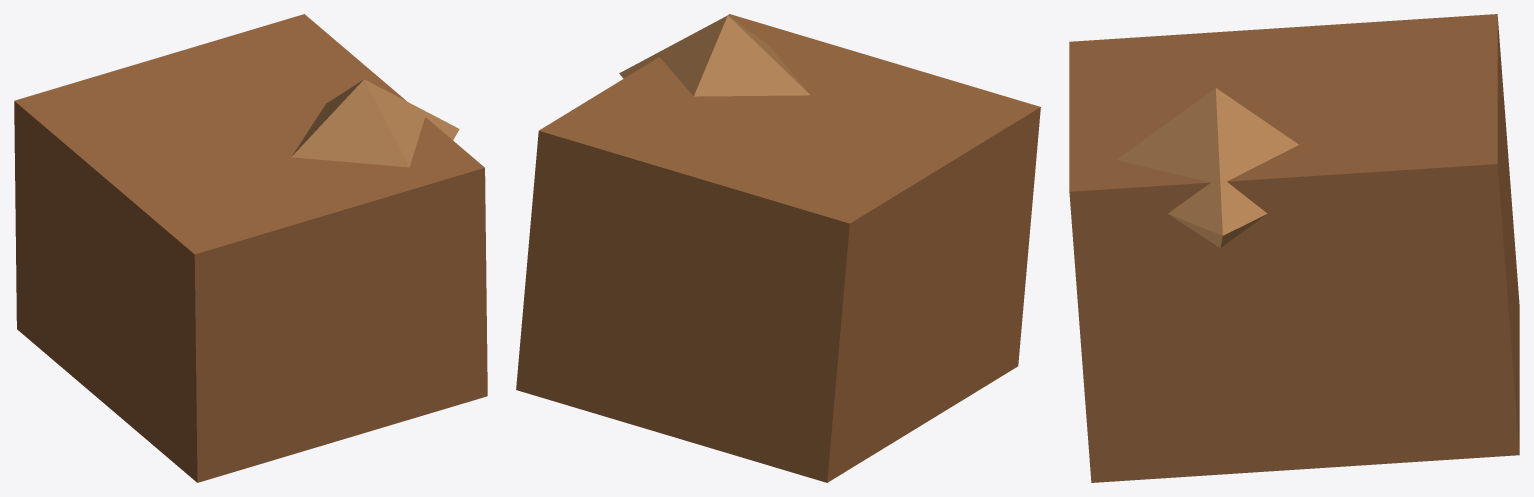
The model's file is pile-soil-1.gltf.
The picture shows the model from 3 angles, left to right: view 1: azimuth 30°, elevation 25°; view 2: azimuth 150°, elevation 25°; view 3: azimuth 270°, elevation 25°; orthographic projection. The views are drawn at different scales.
Parts seen in each view (by area): view 1: pile-soil-1; view 2: pile-soil-1; view 3: pile-soil-1.
Boxes of the visible parts, x1,y1,x2,y2 form: pile-soil-1: (14, 14, 487, 482); pile-soil-1: (516, 14, 1040, 482); pile-soil-1: (1069, 14, 1519, 482).
Size of the model in its own units: 0.3183 by 0.2874 by 0.3146.
